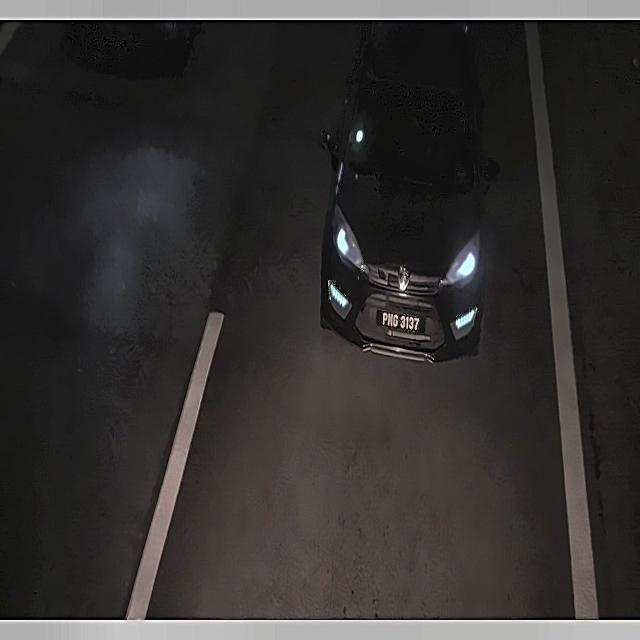car: (373, 306, 427, 340)
